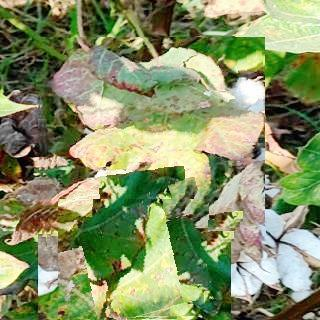blight: (37, 37, 265, 247), (58, 199, 210, 320)
